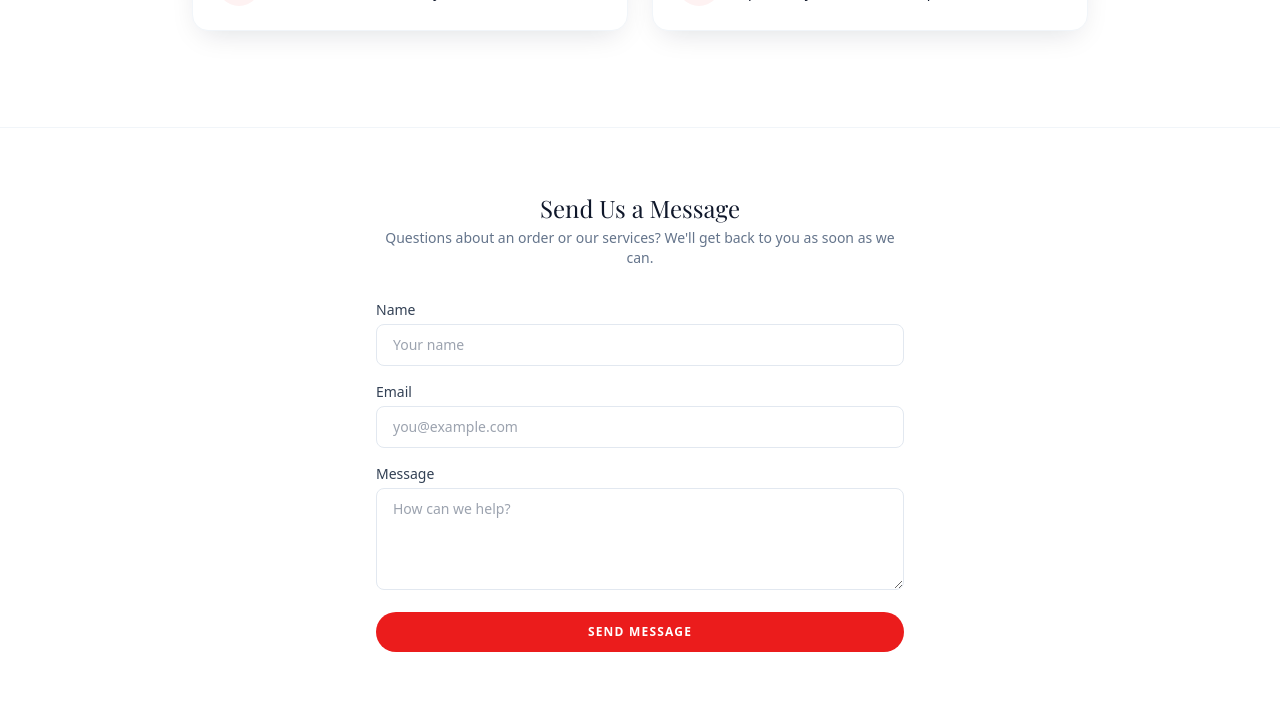
Test: ContactPage › shows a toast (not an inline banner) when the server rejects the submission
(page scrolled)
Type "Ama" into the field with placeholder "Your name" at (640, 345), box [376,324,904,366]
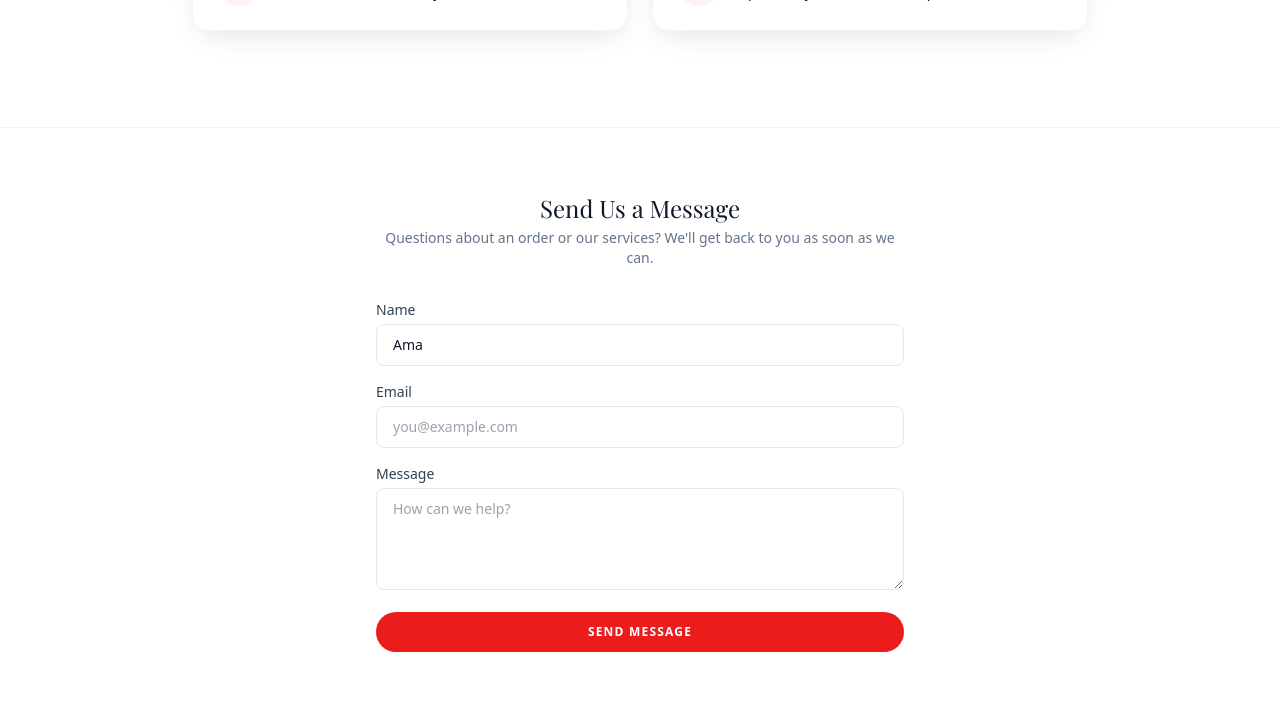
Type "ama@example.com" into the field with placeholder "you@example.com" at (640, 427), box [376,406,904,448]
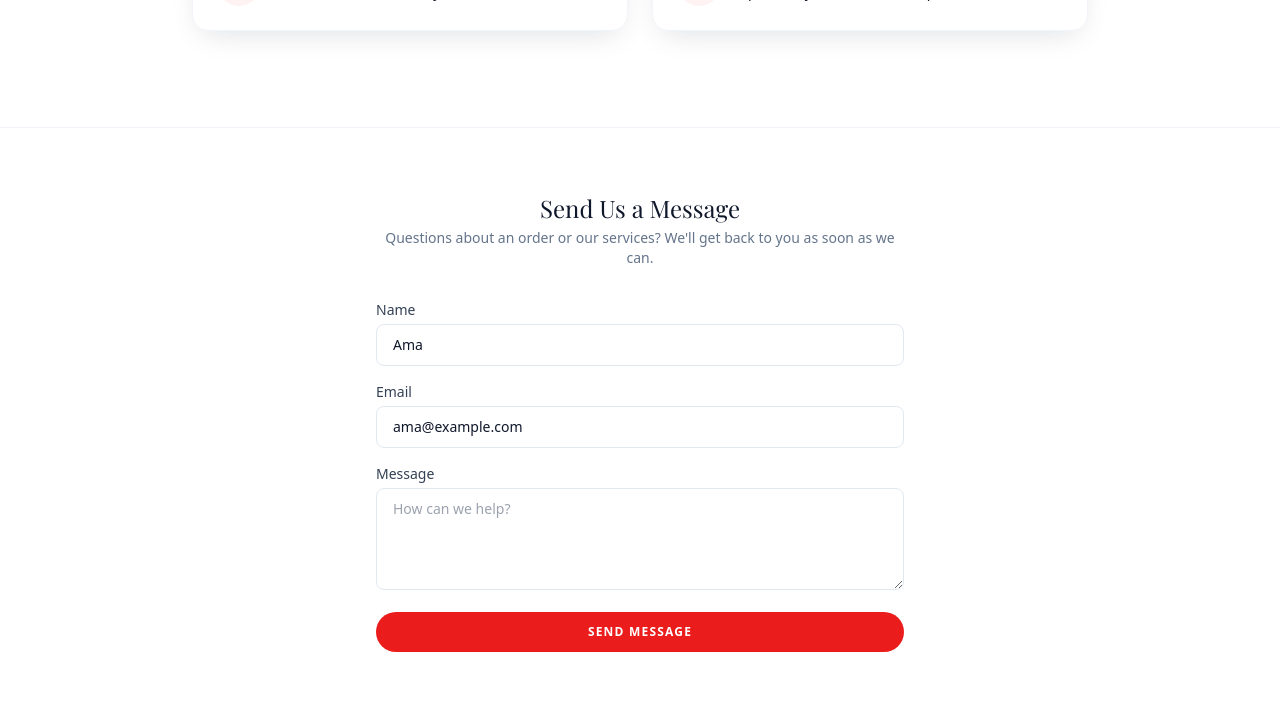
Type "Where is my order?" into the text box with placeholder "How can we help?" at (640, 539), box [376,488,904,590]
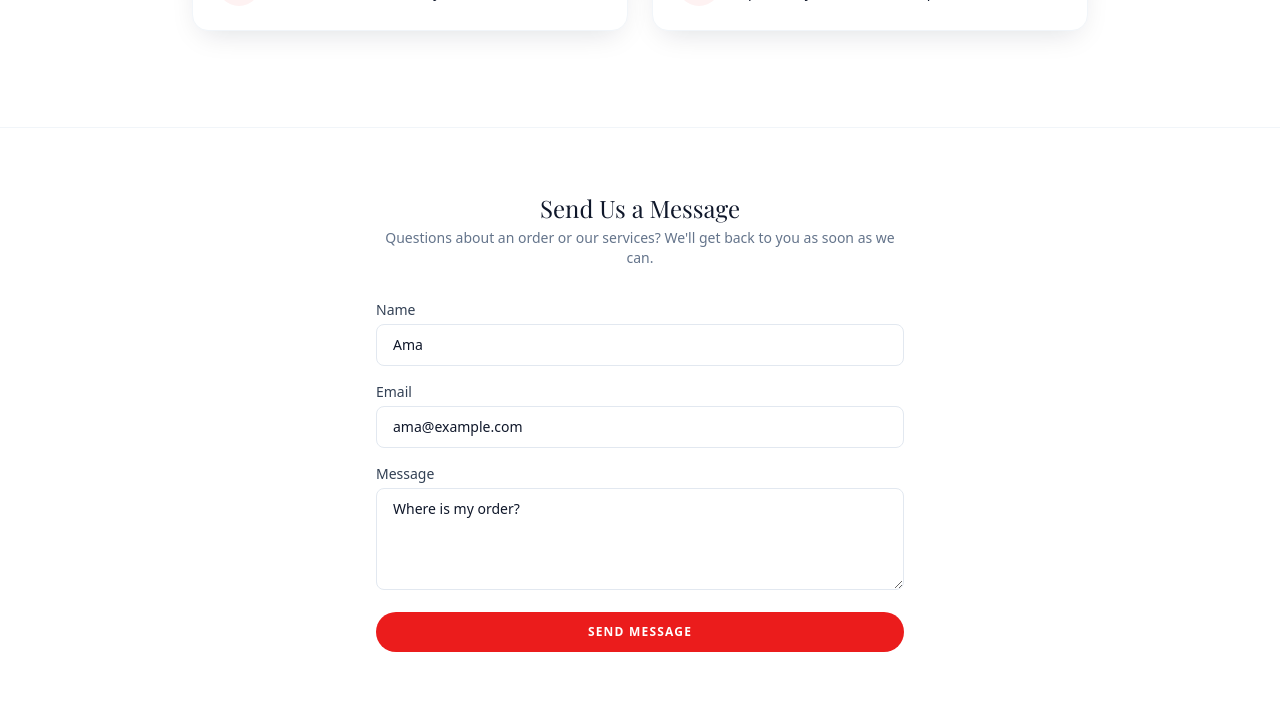
Submit the form, box [376,300,904,652]
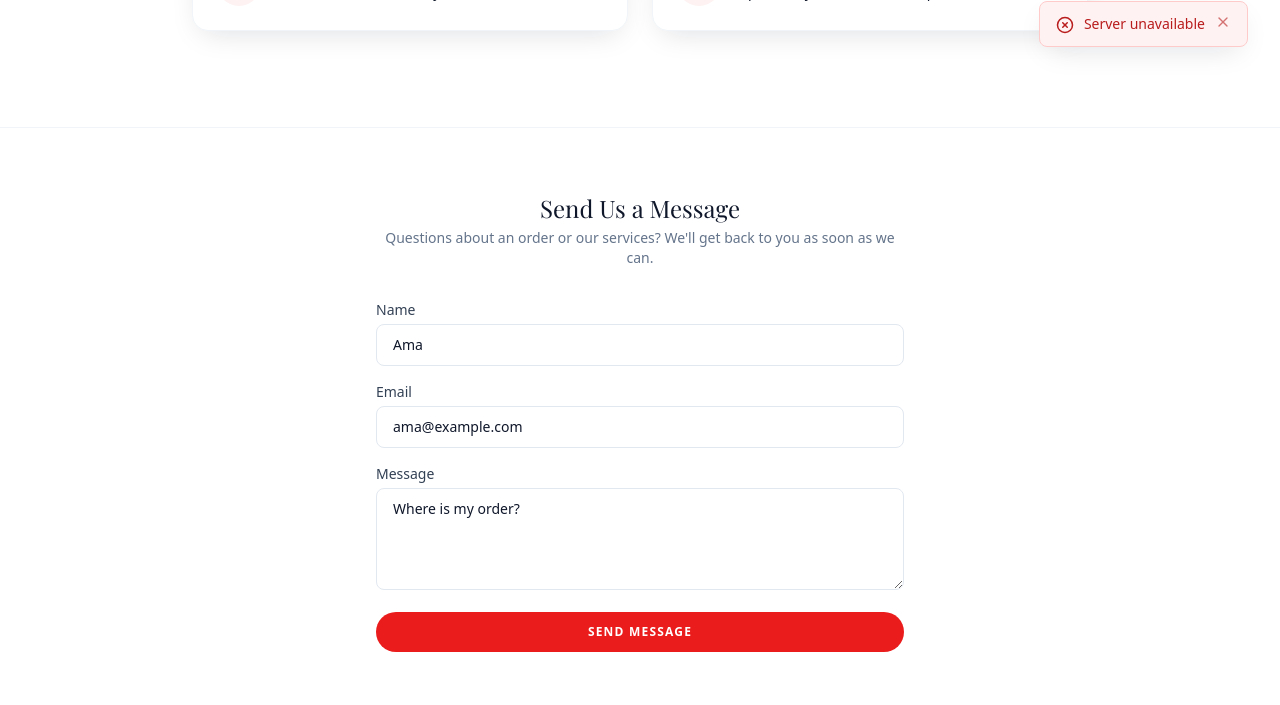
Expected: the text "Server unavailable" is shown, [1084,14,1205,34]
